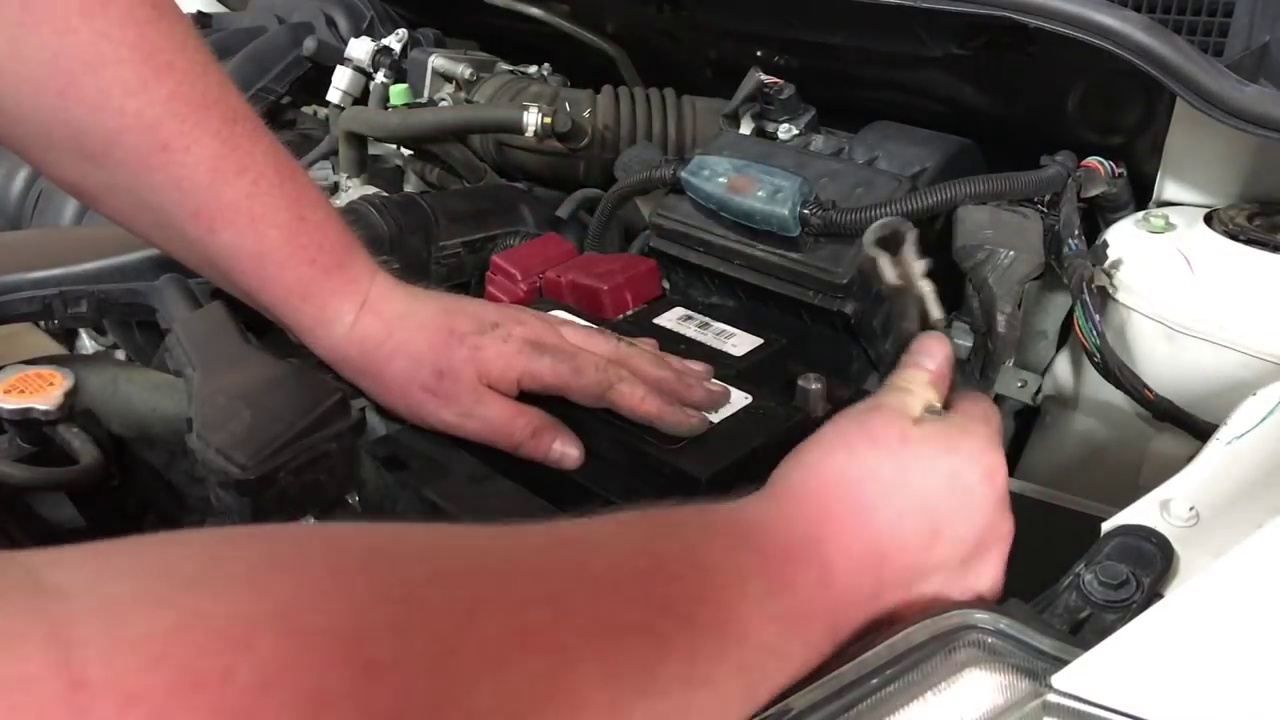battery: (476, 241, 805, 470)
neg_disconnected: (771, 346, 836, 421)
neg_touched: (774, 363, 935, 513)
pos_connected: (464, 225, 671, 329)
pos_touched: (474, 231, 670, 406)
